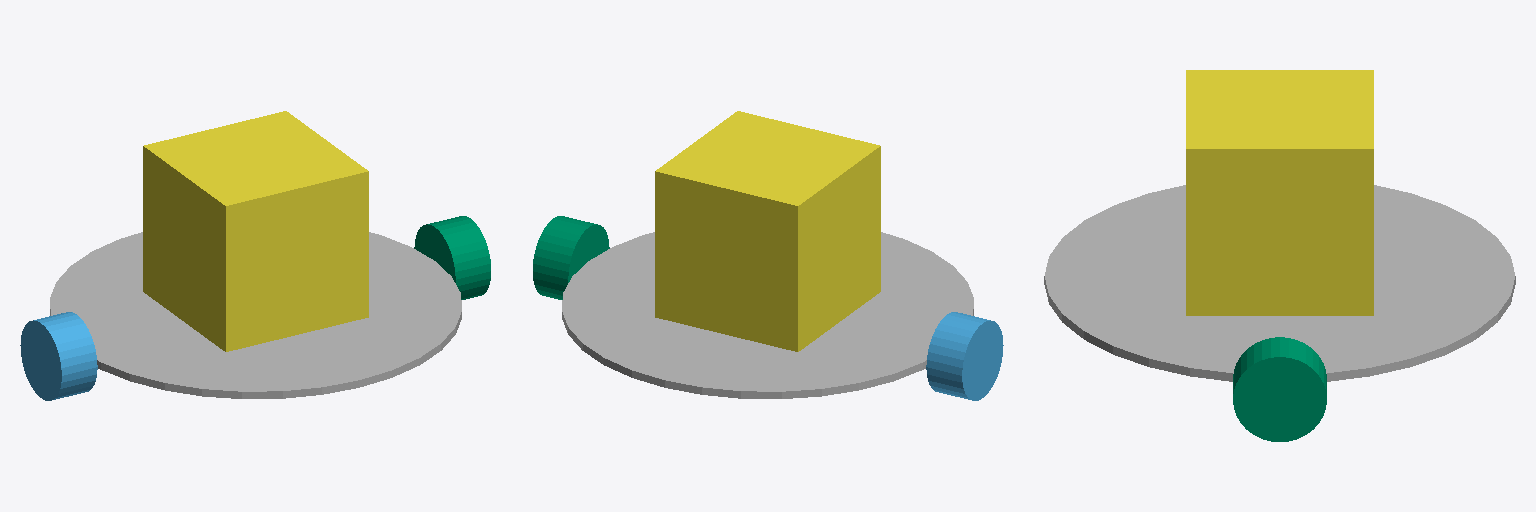
robot.urdf — hobo:
<?xml version="1.0"?>
<robot name="hobo">
<link name="base_link">
<inertial>
      <origin xyz="0 0 0" rpy="0 0 0"/>
      <mass value="1.0" />
      <inertia ixx="0.0741666666667" ixy="0.0" ixz="0.0" iyy="0.0585416666667" iyz="0.0" izz="0.0260416666667"/>
</inertial>
<visual>
    <geometry>
        <cylinder length="0.01" radius="0.25"/>
    </geometry>
    <material name="silver">
        <color rgba="0.75 0.75 0.75 1"/>
    </material>
</visual>
<collision>
    <geometry>
        <cylinder length="0.01" radius="0.25"/>
    </geometry>
</collision>
</link>

<link name="left_wheel">
<inertial>
      <origin xyz="0 0 0" rpy="0 0 0"/>
      <mass value="1.0" />
      <inertia ixx="0.0741666666667" ixy="0.0" ixz="0.0" iyy="0.0585416666667" iyz="0.0" izz="0.0260416666667"/>
</inertial>
<visual>
    <geometry>
        <cylinder length="0.05" radius="0.05"/>
    </geometry>
    <material name="black"/>            
</visual>
<collision>
    <geometry>
        <cylinder length="0.05" radius="0.05"/>
    </geometry>
</collision>
</link>

<joint name="left_wheel_to_base" type="continuous">
<axis xyz="0 0 1"/>
<parent link="base_link"/>
<child link="left_wheel"/>
<origin rpy="0 -1.5708 0" xyz="-0.275 0 0"/>
<inertial>
<mass value="1.0"/>
<inertia ixx="5.1458e-5" iyy="5.1458e-5" izz="5.1458e-5" ixy="0" ixz="0" iyz="0"/>
</inertial>
</joint>

<link name="right_wheel">
<inertial>
      <origin xyz="0 0 0" rpy="0 0 0"/>
      <mass value="1.0" />
      <inertia ixx="0.0741666666667" ixy="0.0" ixz="0.0" iyy="0.0585416666667" iyz="0.0" izz="0.0260416666667"/>
</inertial>
<visual>
    <geometry>
        <cylinder length="0.05" radius="0.05"/>
    </geometry>
    <material name="black"/>            
</visual>
<collision>
    <geometry>
        <cylinder length="0.05" radius="0.05"/>
    </geometry>
</collision>
</link>

<joint name="right_wheel_to_base" type="continuous">
<axis xyz="0 0 1"/>
<parent link="base_link"/>
<child link="right_wheel"/>
<origin rpy="0 -1.5708 0" xyz="0.275 0 0"/>
<inertial>
<mass value="0.1"/>
<inertia ixx="5.1458e-5" iyy="5.1458e-5" izz="5.1458e-5" ixy="0" ixz="0" iyz="0"/>
</inertial>
</joint>


<link name="box">
<inertial>
      <origin xyz="0 0 0" rpy="0 0 0"/>
      <mass value="1.0" />
      <inertia ixx="0.0741666666667" ixy="0.0" ixz="0.0" iyy="0.0585416666667" iyz="0.0" izz="0.0260416666667"/>
</inertial>
<visual>
    <geometry>
        <box size="0.2 0.2 0.2"/>
    </geometry>
    <material name="orange"/>           
</visual>
<collision>
    <geometry>
        <box size="0.2 0.2 0.2"/>
    </geometry>
</collision>
</link>

<joint name="box_to_base" type="fixed">
<parent link="base_link"/>
<child link="box"/>
<origin xyz="0 0 0.1"/>
<inertial>
<mass value="1.0"/>
<inertia ixx="0.015" iyy="0.0375" izz="0.0375" ixy="0" ixz="0" iyz="0"/>
</inertial>
</joint>
</robot>

--- Render facts (derived) ---
The picture shows the robot from 3 angles, left to right: view 1: azimuth 30°, elevation 25°; view 2: azimuth 150°, elevation 25°; view 3: azimuth 270°, elevation 25°; orthographic projection.
Model hobo with 4 links and 3 joints (2 continuous, 1 fixed), rooted at base_link, posed all joints at 0.
Links seen in each view (by area): view 1: box, base_link, left_wheel, right_wheel; view 2: box, base_link, left_wheel, right_wheel; view 3: base_link, box, right_wheel.
Boxes of the visible links, box(x1,y1,x2,y2) form: box: box(143, 111, 368, 351); base_link: box(50, 232, 461, 398); left_wheel: box(20, 312, 97, 400); right_wheel: box(414, 216, 490, 299); box: box(655, 111, 880, 351); base_link: box(562, 232, 973, 398); left_wheel: box(926, 312, 1003, 400); right_wheel: box(533, 216, 609, 299); base_link: box(1044, 185, 1515, 381); box: box(1186, 70, 1373, 315); right_wheel: box(1233, 337, 1326, 441).
Size in the robot's own frame: 0.6 by 0.5 by 0.25 metres.
Geometry: primitives only (box / cylinder / sphere), no mesh files.